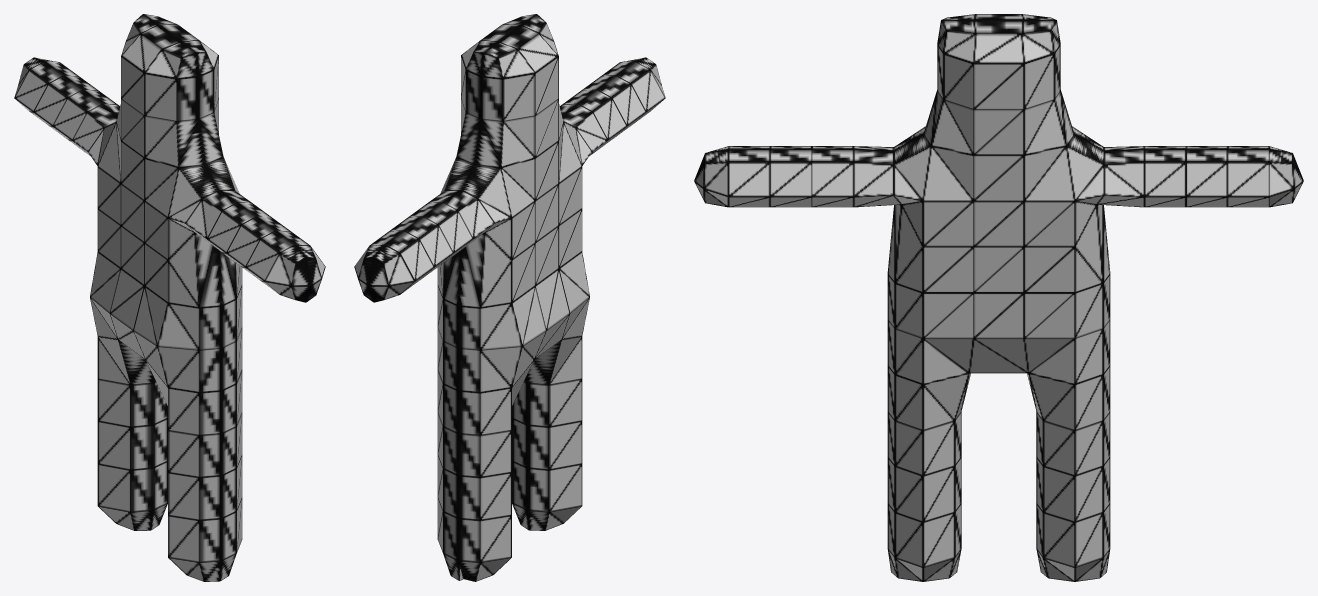
The model's file is avatar003.glb.
3 views of the same model, side by side, from view 1: azimuth 30°, elevation 25°; view 2: azimuth 150°, elevation 25°; view 3: azimuth 270°, elevation 25° (orthographic). The views are drawn at different scales.
Visible parts, largest first — view 1: Cube; view 2: Cube; view 3: Cube.
Part boxes in pixels (x1=…): Cube: x1=14, y1=14, x2=325, y2=581; Cube: x1=354, y1=14, x2=665, y2=581; Cube: x1=694, y1=14, x2=1303, y2=581.
Size of the model in its own units: 0.2781 by 1.59 by 1.59.
1 material, 1 textured.
